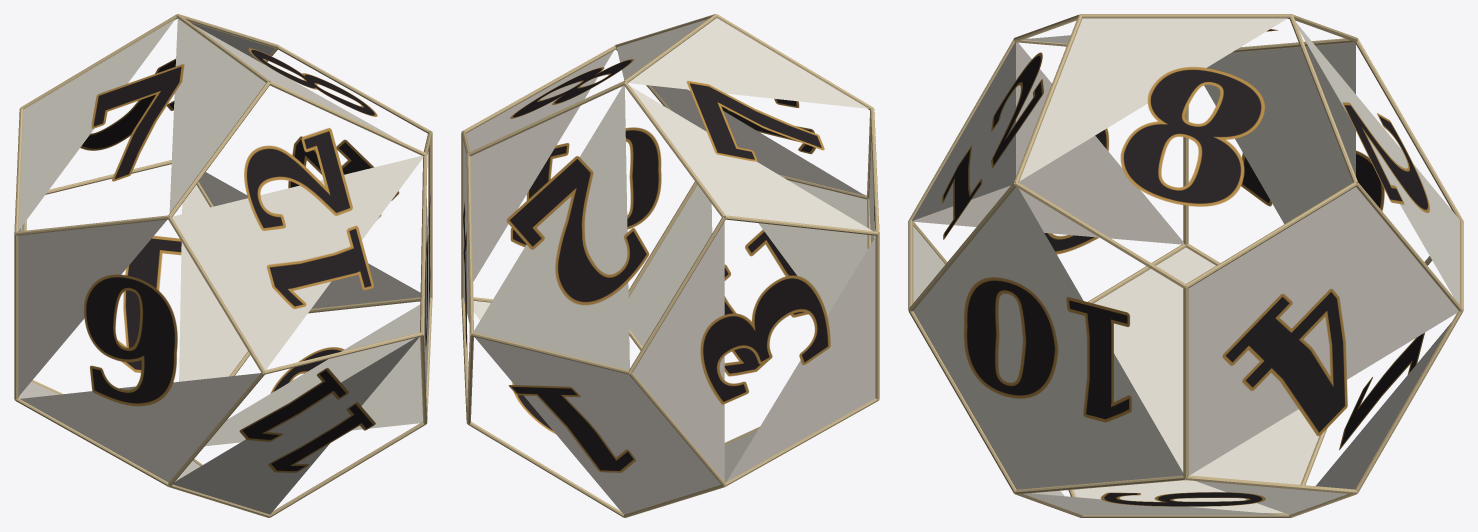
3 views of the same model, side by side, from view 1: azimuth 30°, elevation 25°; view 2: azimuth 150°, elevation 25°; view 3: azimuth 270°, elevation 25° (orthographic). The views are drawn at different scales.
Visible parts, largest first — view 1: DiceBody, GoldEdgeTrim, FaceLabel_9_12, FaceLabel_0_9, FaceLabel_2_11, FaceLabel_7_7, FaceLabel_6_1, FaceLabel_8_2, FaceLabel_11_8, FaceLabel_5_4, FaceLabel_3_6; view 2: DiceBody, GoldEdgeTrim, FaceLabel_8_2, FaceLabel_1_3, FaceLabel_7_7, FaceLabel_10_10, FaceLabel_6_1, FaceLabel_2_11, FaceLabel_11_8, FaceLabel_9_12; view 3: DiceBody, GoldEdgeTrim, FaceLabel_11_8, FaceLabel_10_10, FaceLabel_5_4, FaceLabel_9_12, FaceLabel_8_2, FaceLabel_6_1, FaceLabel_3_6, FaceLabel_1_3, FaceLabel_0_9.
Part boxes in pixels (x1,y1,x2,y2): DiceBody: (18, 18, 430, 514); GoldEdgeTrim: (14, 14, 432, 517); FaceLabel_9_12: (244, 128, 373, 308); FaceLabel_0_9: (84, 274, 177, 406); FaceLabel_2_11: (239, 368, 375, 472); FaceLabel_7_7: (91, 64, 184, 181); FaceLabel_6_1: (117, 236, 181, 372); FaceLabel_8_2: (80, 58, 175, 150); FaceLabel_11_8: (248, 48, 377, 116); FaceLabel_5_4: (288, 136, 399, 219); FaceLabel_3_6: (270, 347, 344, 393); DiceBody: (463, 18, 875, 514); GoldEdgeTrim: (461, 14, 879, 517); FaceLabel_8_2: (506, 156, 649, 305); FaceLabel_1_3: (700, 275, 830, 404); FaceLabel_7_7: (687, 81, 824, 161); FaceLabel_10_10: (510, 127, 661, 247); FaceLabel_6_1: (508, 385, 635, 472); FaceLabel_2_11: (724, 229, 807, 376); FaceLabel_11_8: (510, 59, 633, 118); FaceLabel_9_12: (721, 98, 815, 154); DiceBody: (912, 18, 1459, 515); GoldEdgeTrim: (908, 14, 1463, 517); FaceLabel_11_8: (1120, 67, 1264, 206); FaceLabel_10_10: (964, 277, 1131, 422); FaceLabel_5_4: (1222, 288, 1347, 436); FaceLabel_9_12: (942, 52, 1043, 239); FaceLabel_8_2: (1342, 102, 1429, 212); FaceLabel_6_1: (1339, 332, 1424, 450); FaceLabel_3_6: (1101, 492, 1265, 506); FaceLabel_1_3: (1241, 150, 1384, 210); FaceLabel_0_9: (1044, 128, 1108, 254).
Size of the model in its own units: 1.89 by 1.89 by 1.89.
12 materials, 12 textured.
